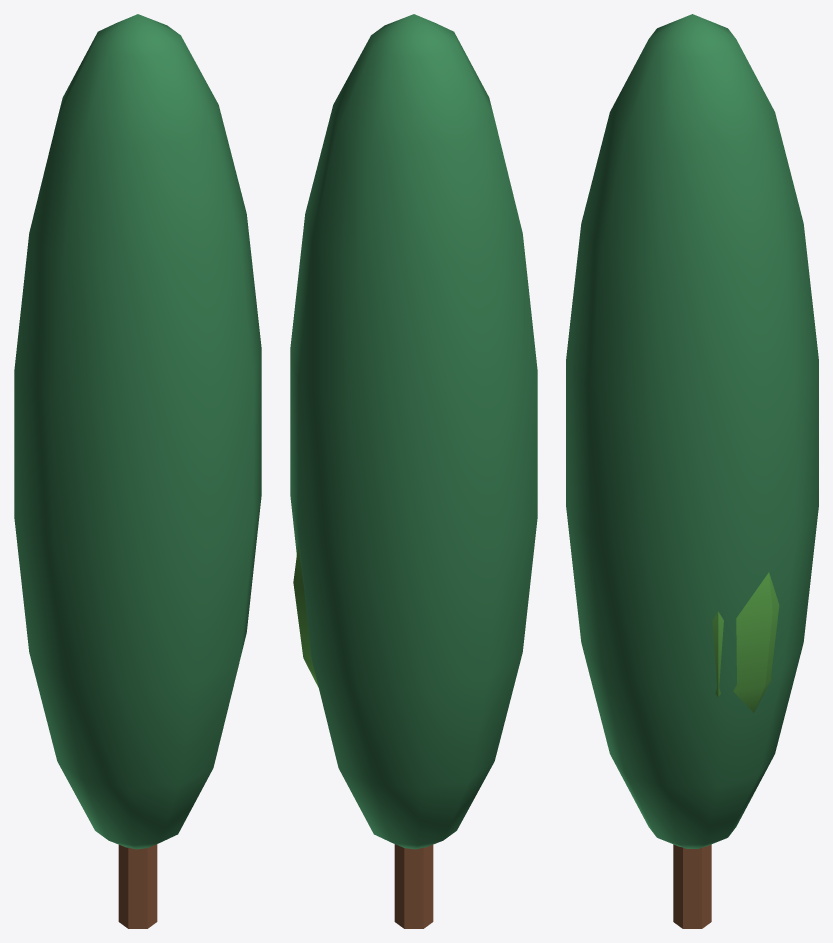
File: tree_e.glb
3 renders of one model, left to right at view 1: azimuth 30°, elevation 25°; view 2: azimuth 150°, elevation 25°; view 3: azimuth 270°, elevation 25°, orthographic.
Visible parts, largest first — view 1: tree_e; view 2: tree_e; view 3: tree_e.
Boxes of the visible parts, <box> form: tree_e: <box>14,14,261,928</box>; tree_e: <box>290,14,537,928</box>; tree_e: <box>566,14,818,928</box>.
Bounding box in the file's own units: 1.87 × 7.8 × 1.97.
